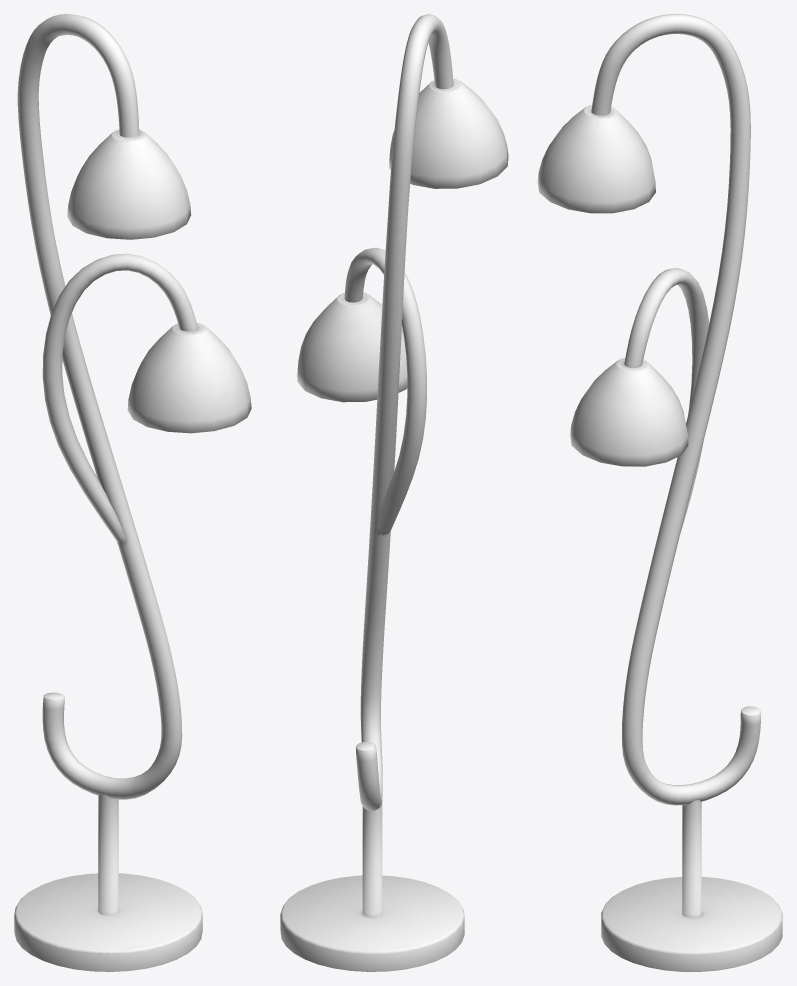
The model's file is EE_Corner_Lamp_01.gltf.
3 renders of one model, left to right at view 1: azimuth 30°, elevation 25°; view 2: azimuth 150°, elevation 25°; view 3: azimuth 270°, elevation 25°, orthographic. The views are drawn at different scales.
Visible parts, largest first — view 1: EE_Corner_Lamp_01.001; view 2: EE_Corner_Lamp_01.001; view 3: EE_Corner_Lamp_01.001.
Boxes of the visible parts, x1,y1,x2,y2 form: EE_Corner_Lamp_01.001: (14, 14, 251, 971); EE_Corner_Lamp_01.001: (280, 14, 508, 971); EE_Corner_Lamp_01.001: (537, 14, 782, 971).
Size of what is drawn, in the model's own units: 0.5294 by 2.57 by 0.6341.
2 materials, 1 textured.
